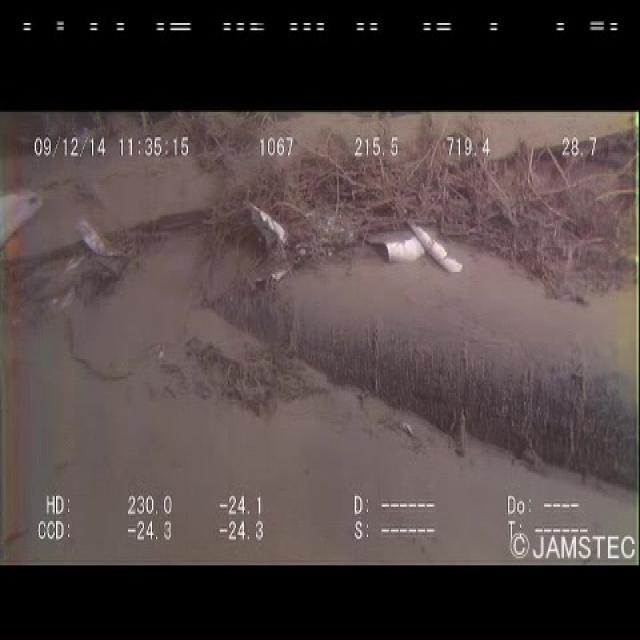plastic: (358, 203, 473, 295), (235, 192, 324, 293), (66, 210, 126, 279)
